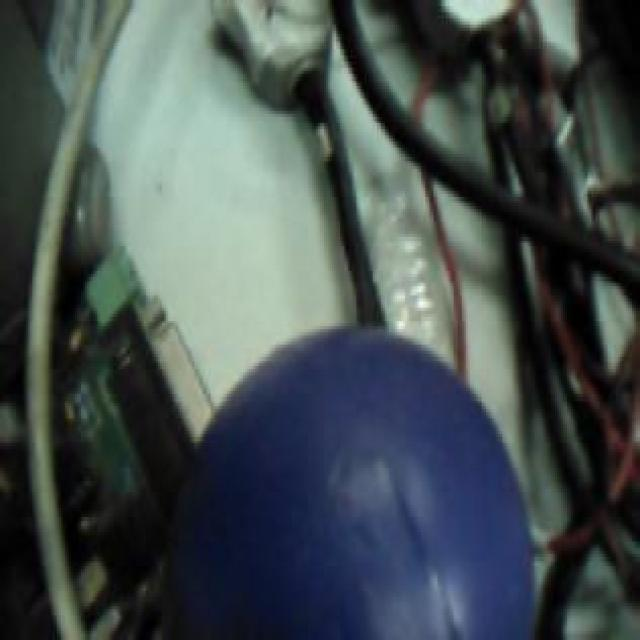BallPurple: (174, 323, 534, 640)
